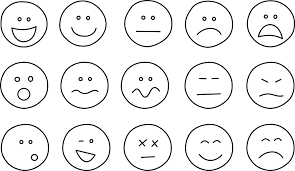triste: (193, 72, 228, 99), (131, 11, 162, 36), (193, 13, 220, 39)
